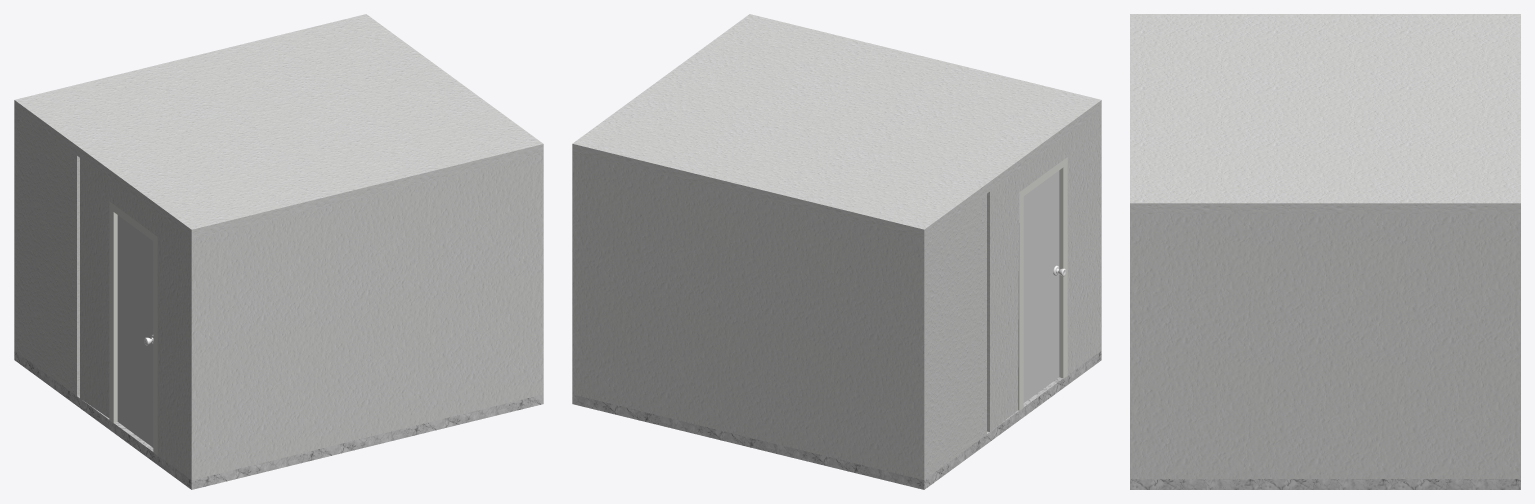
The model's file is FloorPlan428_physics.fbx.
3 views of the same model, side by side, from view 1: azimuth 30°, elevation 25°; view 2: azimuth 150°, elevation 25°; view 3: azimuth 270°, elevation 25° (orthographic). The views are drawn at different scales.
Visible parts, largest first — view 1: FP428:Walls, FP428:Ceiling, FP428:Door.008, FP428:Floor, FP428:DoorFrame.008; view 2: FP428:Walls, FP428:Ceiling, FP428:Door.008, FP428:Floor, FP428:DoorFrame.008; view 3: FP428:Walls, FP428:Ceiling, FP428:Floor.
Boxes of the visible parts, x1,y1,x2,y2 form: FP428:Walls: (14, 110, 543, 480); FP428:Ceiling: (14, 14, 543, 239); FP428:Door.008: (117, 215, 153, 447); FP428:Floor: (14, 350, 543, 489); FP428:DoorFrame.008: (109, 201, 157, 455); FP428:Walls: (572, 110, 1101, 479); FP428:Ceiling: (572, 14, 1101, 239); FP428:Door.008: (1023, 170, 1059, 402); FP428:Floor: (572, 351, 1101, 489); FP428:DoorFrame.008: (1018, 157, 1067, 410); FP428:Walls: (1130, 214, 1520, 479); FP428:Ceiling: (1130, 14, 1520, 213); FP428:Floor: (1130, 479, 1520, 489).
Size of the model in its own units: 341 by 238 by 294.
